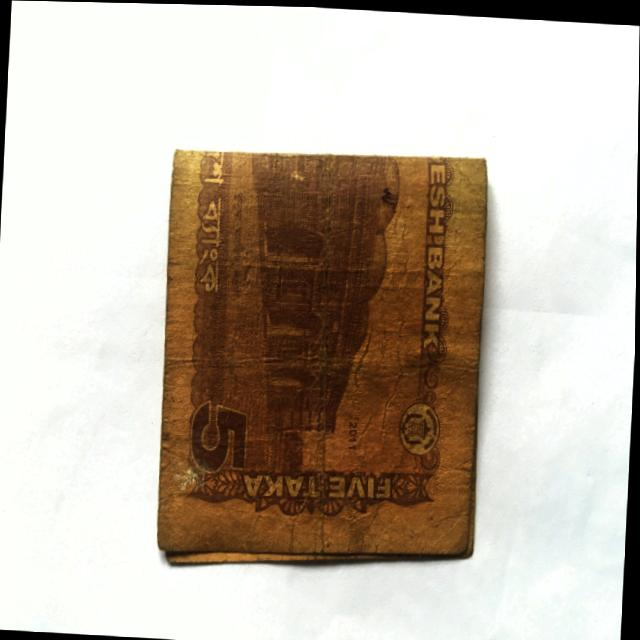Taka: (151, 130, 497, 575)
